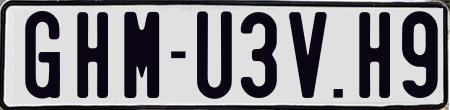3: (239, 10, 279, 101)
9: (399, 11, 434, 100)
G: (23, 9, 62, 101)
H: (75, 9, 112, 100), (358, 10, 395, 97)
M: (123, 12, 160, 99)
U: (197, 9, 235, 98)
V: (288, 11, 330, 103)
